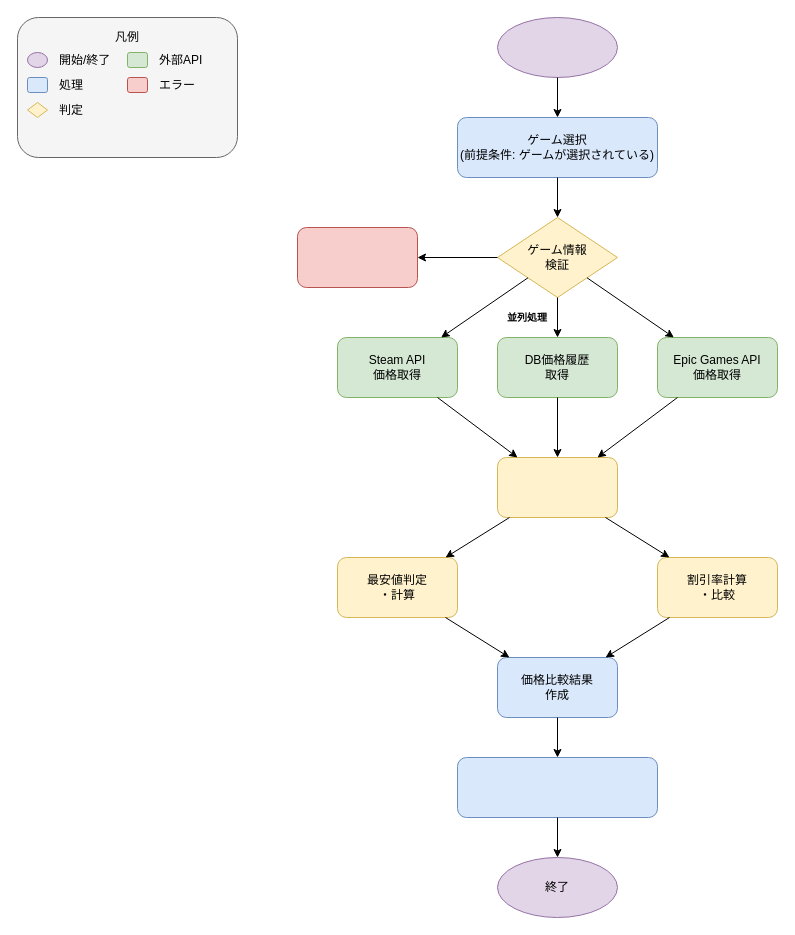
Image size: 795x935. Some labels were removed from this diagram. Here are the shapes that lost their labels. From the top down, the centre of each, then its label:
At (557,47): "開始".
At (357,257): "エラー表示 (ゲーム情報不正)".
At (557,487): "価格情報統合 ・検証".
At (557,787): "価格比較結果表示 (各ストア価格、最安値)".
